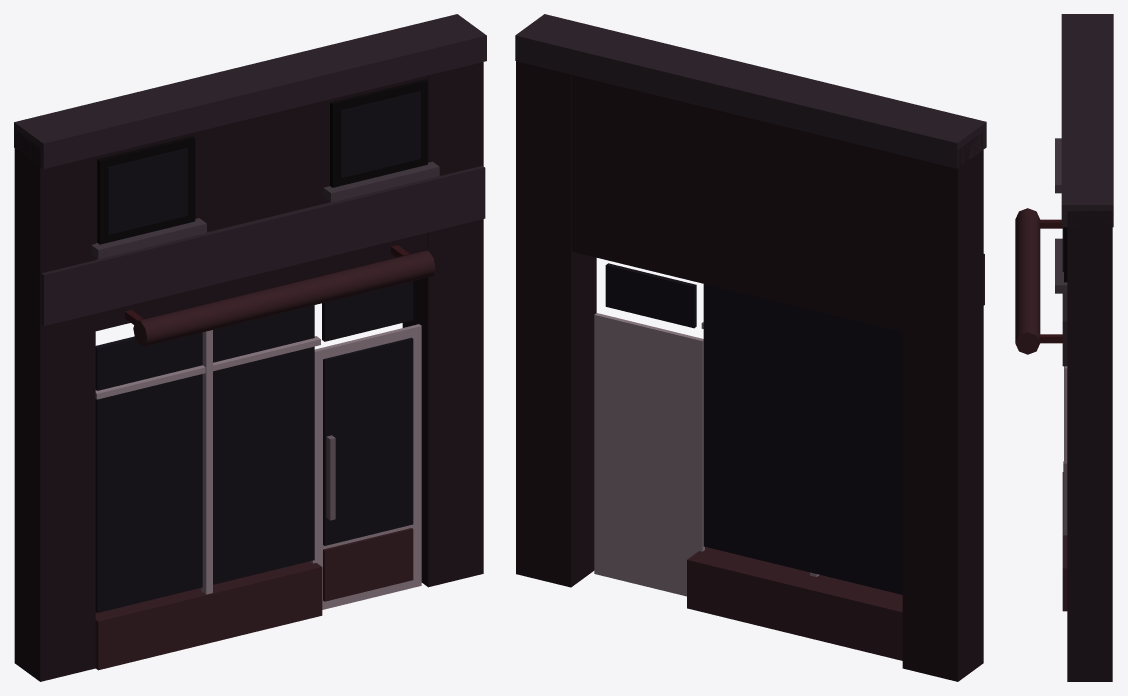
The model's file is SM_FacadeModule_A_Shop.obj.
3 views of the same model, side by side, from view 1: azimuth 30°, elevation 25°; view 2: azimuth 150°, elevation 25°; view 3: azimuth 270°, elevation 25° (orthographic). The views are drawn at different scales.
Visible parts, largest first — view 1: shop_glass, pier_left, pier_right, cornice, fascia_board, wall_header, door_glass, stallriser, awning_roll, door_frame, upper_glass_1, upper_glass_0 (+9 smaller); view 2: wall_header, shop_glass, pier_left, pier_right, door_frame, cornice, stallriser, door_fanlight; view 3: pier_right, cornice, awning_roll, wall_header, stallriser, upper_sill_1, fascia_board, upper_sill_0, door_handle, shop_mullion, bracket_r, bracket_l (+1 smaller).
Part boxes in pixels (x1=…): shop_glass: x1=95, y1=305, x2=314, y2=612; pier_left: x1=14, y1=130, x2=95, y2=681; pier_right: x1=402, y1=62, x2=483, y2=587; cornice: x1=14, y1=14, x2=486, y2=169; fascia_board: x1=41, y1=166, x2=485, y2=326; wall_header: x1=15, y1=75, x2=427, y2=336; door_glass: x1=323, y1=337, x2=413, y2=545; stallriser: x1=95, y1=561, x2=322, y2=670; awning_roll: x1=133, y1=250, x2=435, y2=346; door_frame: x1=310, y1=324, x2=421, y2=609; upper_glass_1: x1=340, y1=91, x2=420, y2=178; upper_glass_0: x1=107, y1=148, x2=187, y2=234; wall_header: x1=571, y1=75, x2=982, y2=342; shop_glass: x1=703, y1=284, x2=902, y2=594; pier_left: x1=902, y1=136, x2=983, y2=681; pier_right: x1=516, y1=61, x2=596, y2=587; door_frame: x1=594, y1=313, x2=704, y2=596; cornice: x1=515, y1=14, x2=986, y2=168; stallriser: x1=687, y1=547, x2=902, y2=660; door_fanlight: x1=605, y1=263, x2=696, y2=328; pier_right: x1=1067, y1=211, x2=1112, y2=681; cornice: x1=1061, y1=14, x2=1113, y2=227; awning_roll: x1=1015, y1=208, x2=1040, y2=354; wall_header: x1=1068, y1=211, x2=1111, y2=384; stallriser: x1=1062, y1=472, x2=1067, y2=611; upper_sill_1: x1=1055, y1=238, x2=1067, y2=293; fascia_board: x1=1062, y1=293, x2=1067, y2=366; upper_sill_0: x1=1055, y1=138, x2=1061, y2=193; door_handle: x1=1063, y1=461, x2=1067, y2=535; shop_mullion: x1=1064, y1=366, x2=1067, y2=461; bracket_r: x1=1038, y1=334, x2=1062, y2=343; bracket_l: x1=1038, y1=219, x2=1062, y2=228.
Bounding box in the file's own units: 4 × 4.66 × 0.87.
